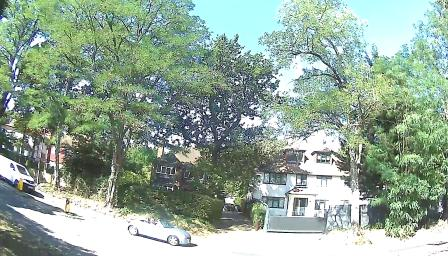Cars: (124, 216, 189, 246), (0, 153, 37, 193)
